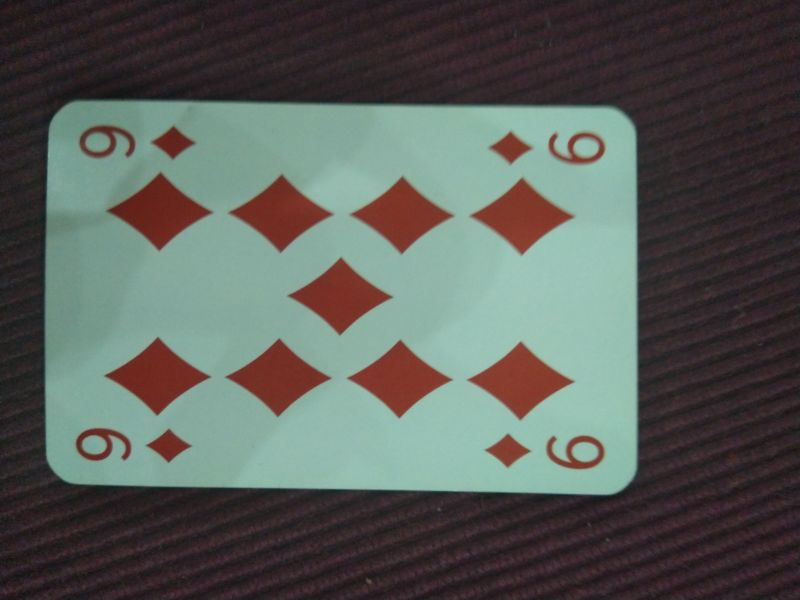9d: (69, 419, 204, 468), (476, 427, 610, 474), (484, 123, 612, 171), (76, 119, 199, 163)
